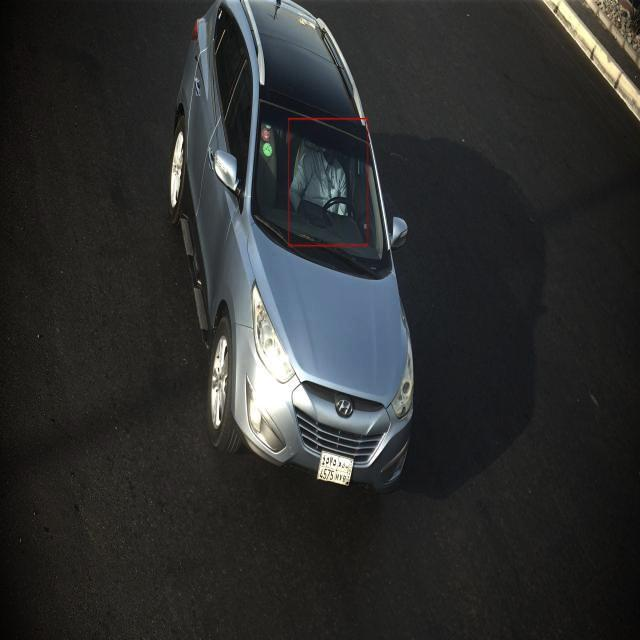person_without_seatbelt: (290, 130, 363, 228)
